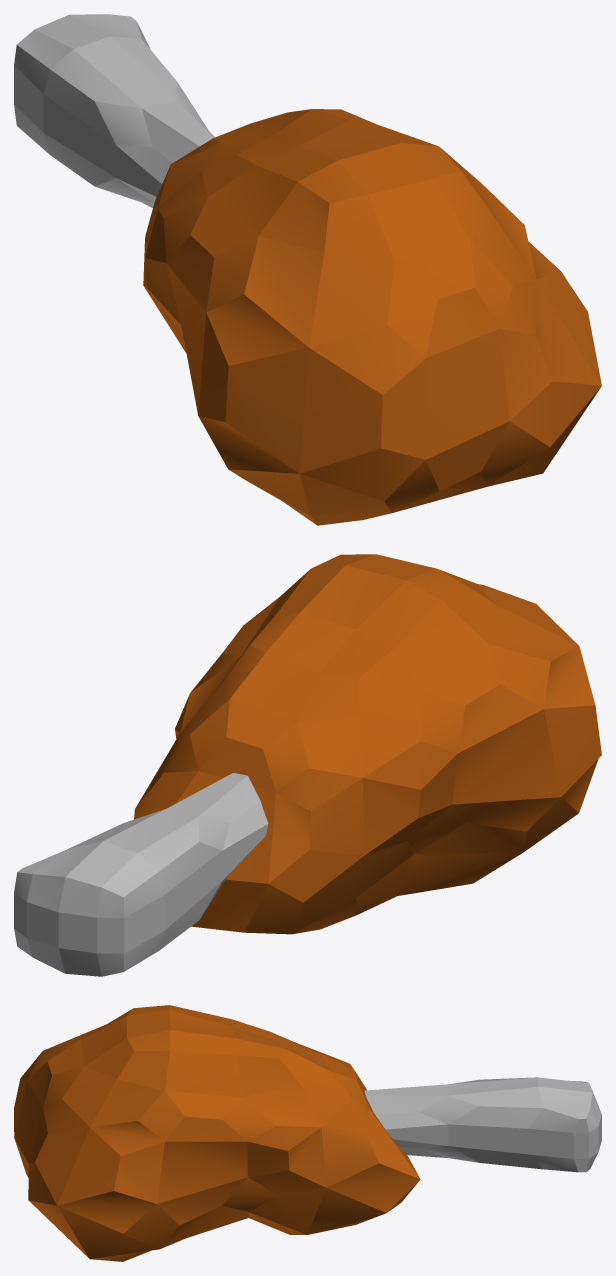
Rendered from chicken.obj.
3 views of the same model, one above another, from view 1: azimuth 30°, elevation 25°; view 2: azimuth 150°, elevation 25°; view 3: azimuth 270°, elevation 25° (orthographic). The views are drawn at different scales.
Parts seen in each view (by area): view 1: Cylinder_Mesh; view 2: Cylinder_Mesh; view 3: Cylinder_Mesh.
Boxes of the visible parts, <box> form: Cylinder_Mesh: <box>14,14,601,525</box>; Cylinder_Mesh: <box>14,554,601,976</box>; Cylinder_Mesh: <box>14,1005,601,1261</box>.
Size of the model in its own units: 0.0956 by 0.0809 by 0.1973.
1 material, 1 textured.
